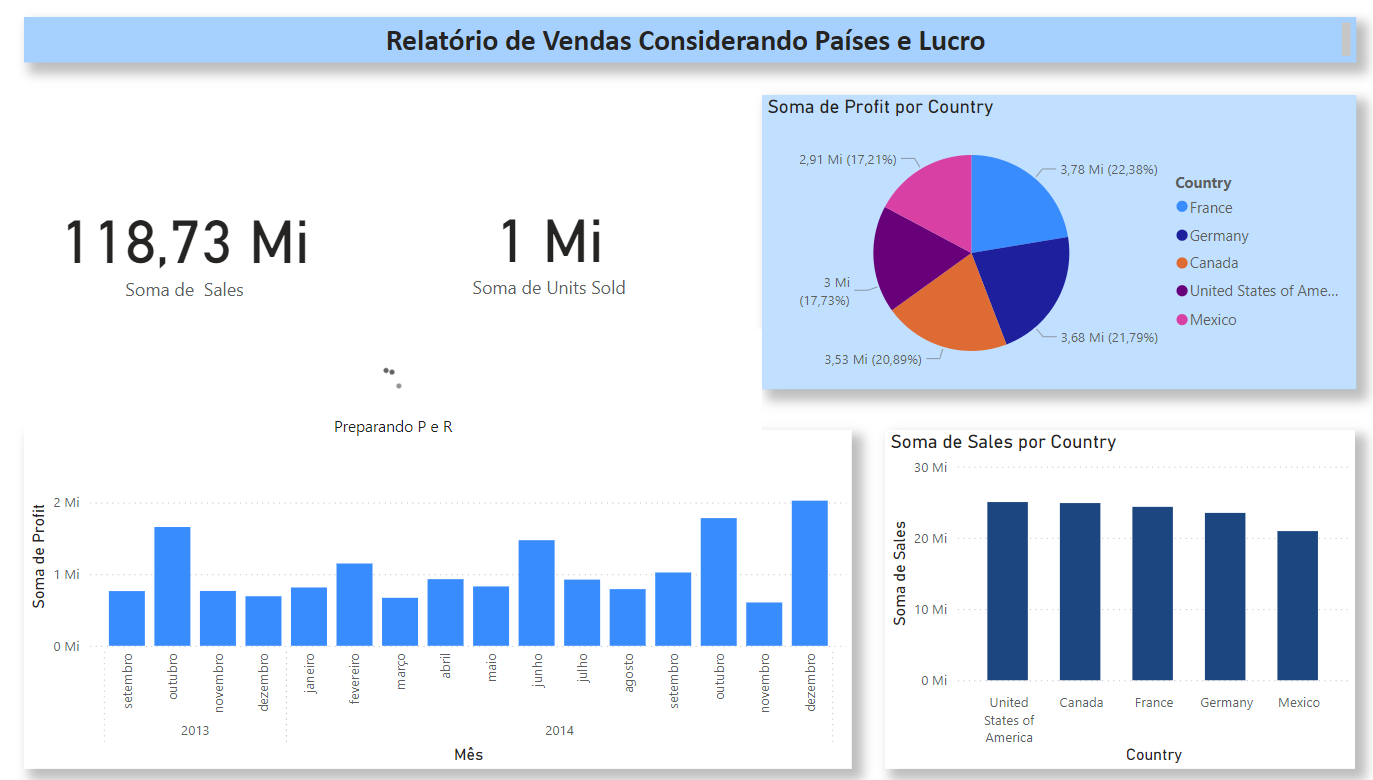

The page's visual inventory and layout, read from the dashboard file:
{"tool":"powerbi","page":{"name":"Página 2","canvas":[1280,720],"ordinal":1},"visuals":[{"type":"textbox","box":[38.5,24.7,1198.9,41.2],"z":0},{"type":"card","fields":{"Values":["Sum(financials. Sales)"]},"box":[38.5,155.4,288.7,149.9],"z":1000},{"type":"card","fields":{"Values":["Sum(financials.Units Sold)"]},"box":[357.5,154,308,151.2],"z":2000},{"type":"pieChart","fields":{"Category":["financials.Country"],"Y":["Sum(financials.Profit)"]},"box":[702.6,94.9,534.8,265.3],"z":3000},{"type":"clusteredColumnChart","fields":{"Y":["Sum(financials.Profit)"],"Category":["financials.Date.Variation.Hierarquia de datas.Ano","financials.Date.Variation.Hierarquia de datas.Mês"]},"box":[38.5,396,745.2,305.2],"z":4000},{"type":"clusteredColumnChart","fields":{"Category":["financials.Country"],"Y":["Sum(financials. Sales)"]},"box":[813.9,396,423.5,305.2],"z":5000},{"type":"qnaVisual","box":[38.5,305.2,664.1,150],"z":6000}]}

Visuals, with their boxes in screenshot pixels (x1, y1, x2, y2), scaled from the page's 1280x720 canvas onto the 1373x780 screenshot:
textbox: {"left": 41, "top": 27, "right": 1327, "bottom": 71}
card - Sum(financials. Sales): {"left": 41, "top": 168, "right": 351, "bottom": 331}
card - Sum(financials.Units Sold): {"left": 383, "top": 167, "right": 714, "bottom": 331}
pieChart - financials.Country x Sum(financials.Profit): {"left": 754, "top": 103, "right": 1327, "bottom": 390}
clusteredColumnChart - Sum(financials.Profit) x financials.Date.Variation.Hierarquia de datas.Ano: {"left": 41, "top": 429, "right": 841, "bottom": 760}
clusteredColumnChart - financials.Country x Sum(financials. Sales): {"left": 873, "top": 429, "right": 1327, "bottom": 760}
qnaVisual: {"left": 41, "top": 331, "right": 754, "bottom": 493}
